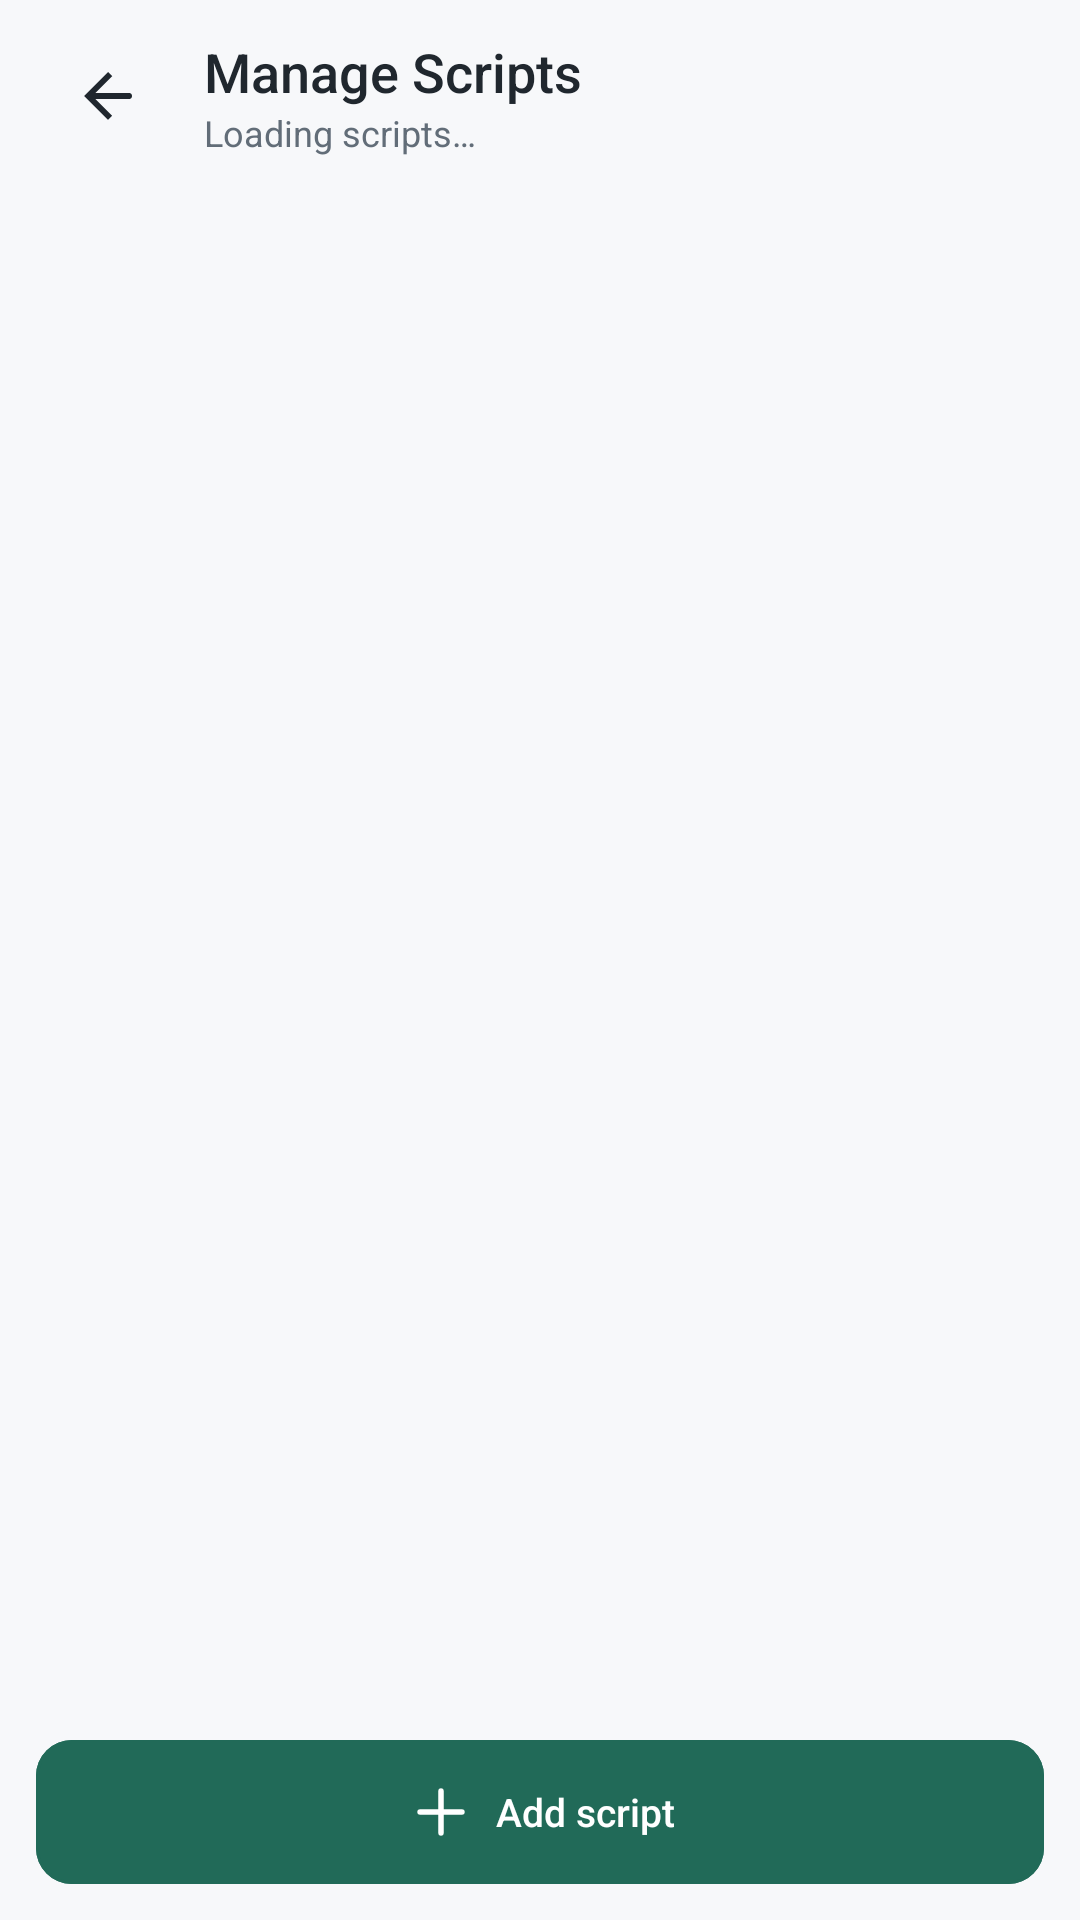

Icon click points for this 1080px×1920px phone screenshot, format [x,y]:
Back: [108,96]
